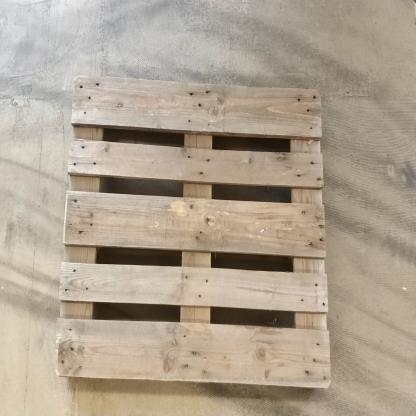BoxFace: (51, 71, 333, 396)
